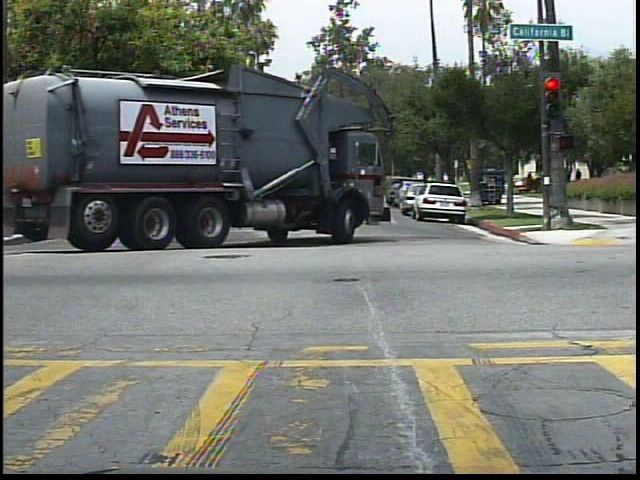person: (571, 164, 589, 194)
